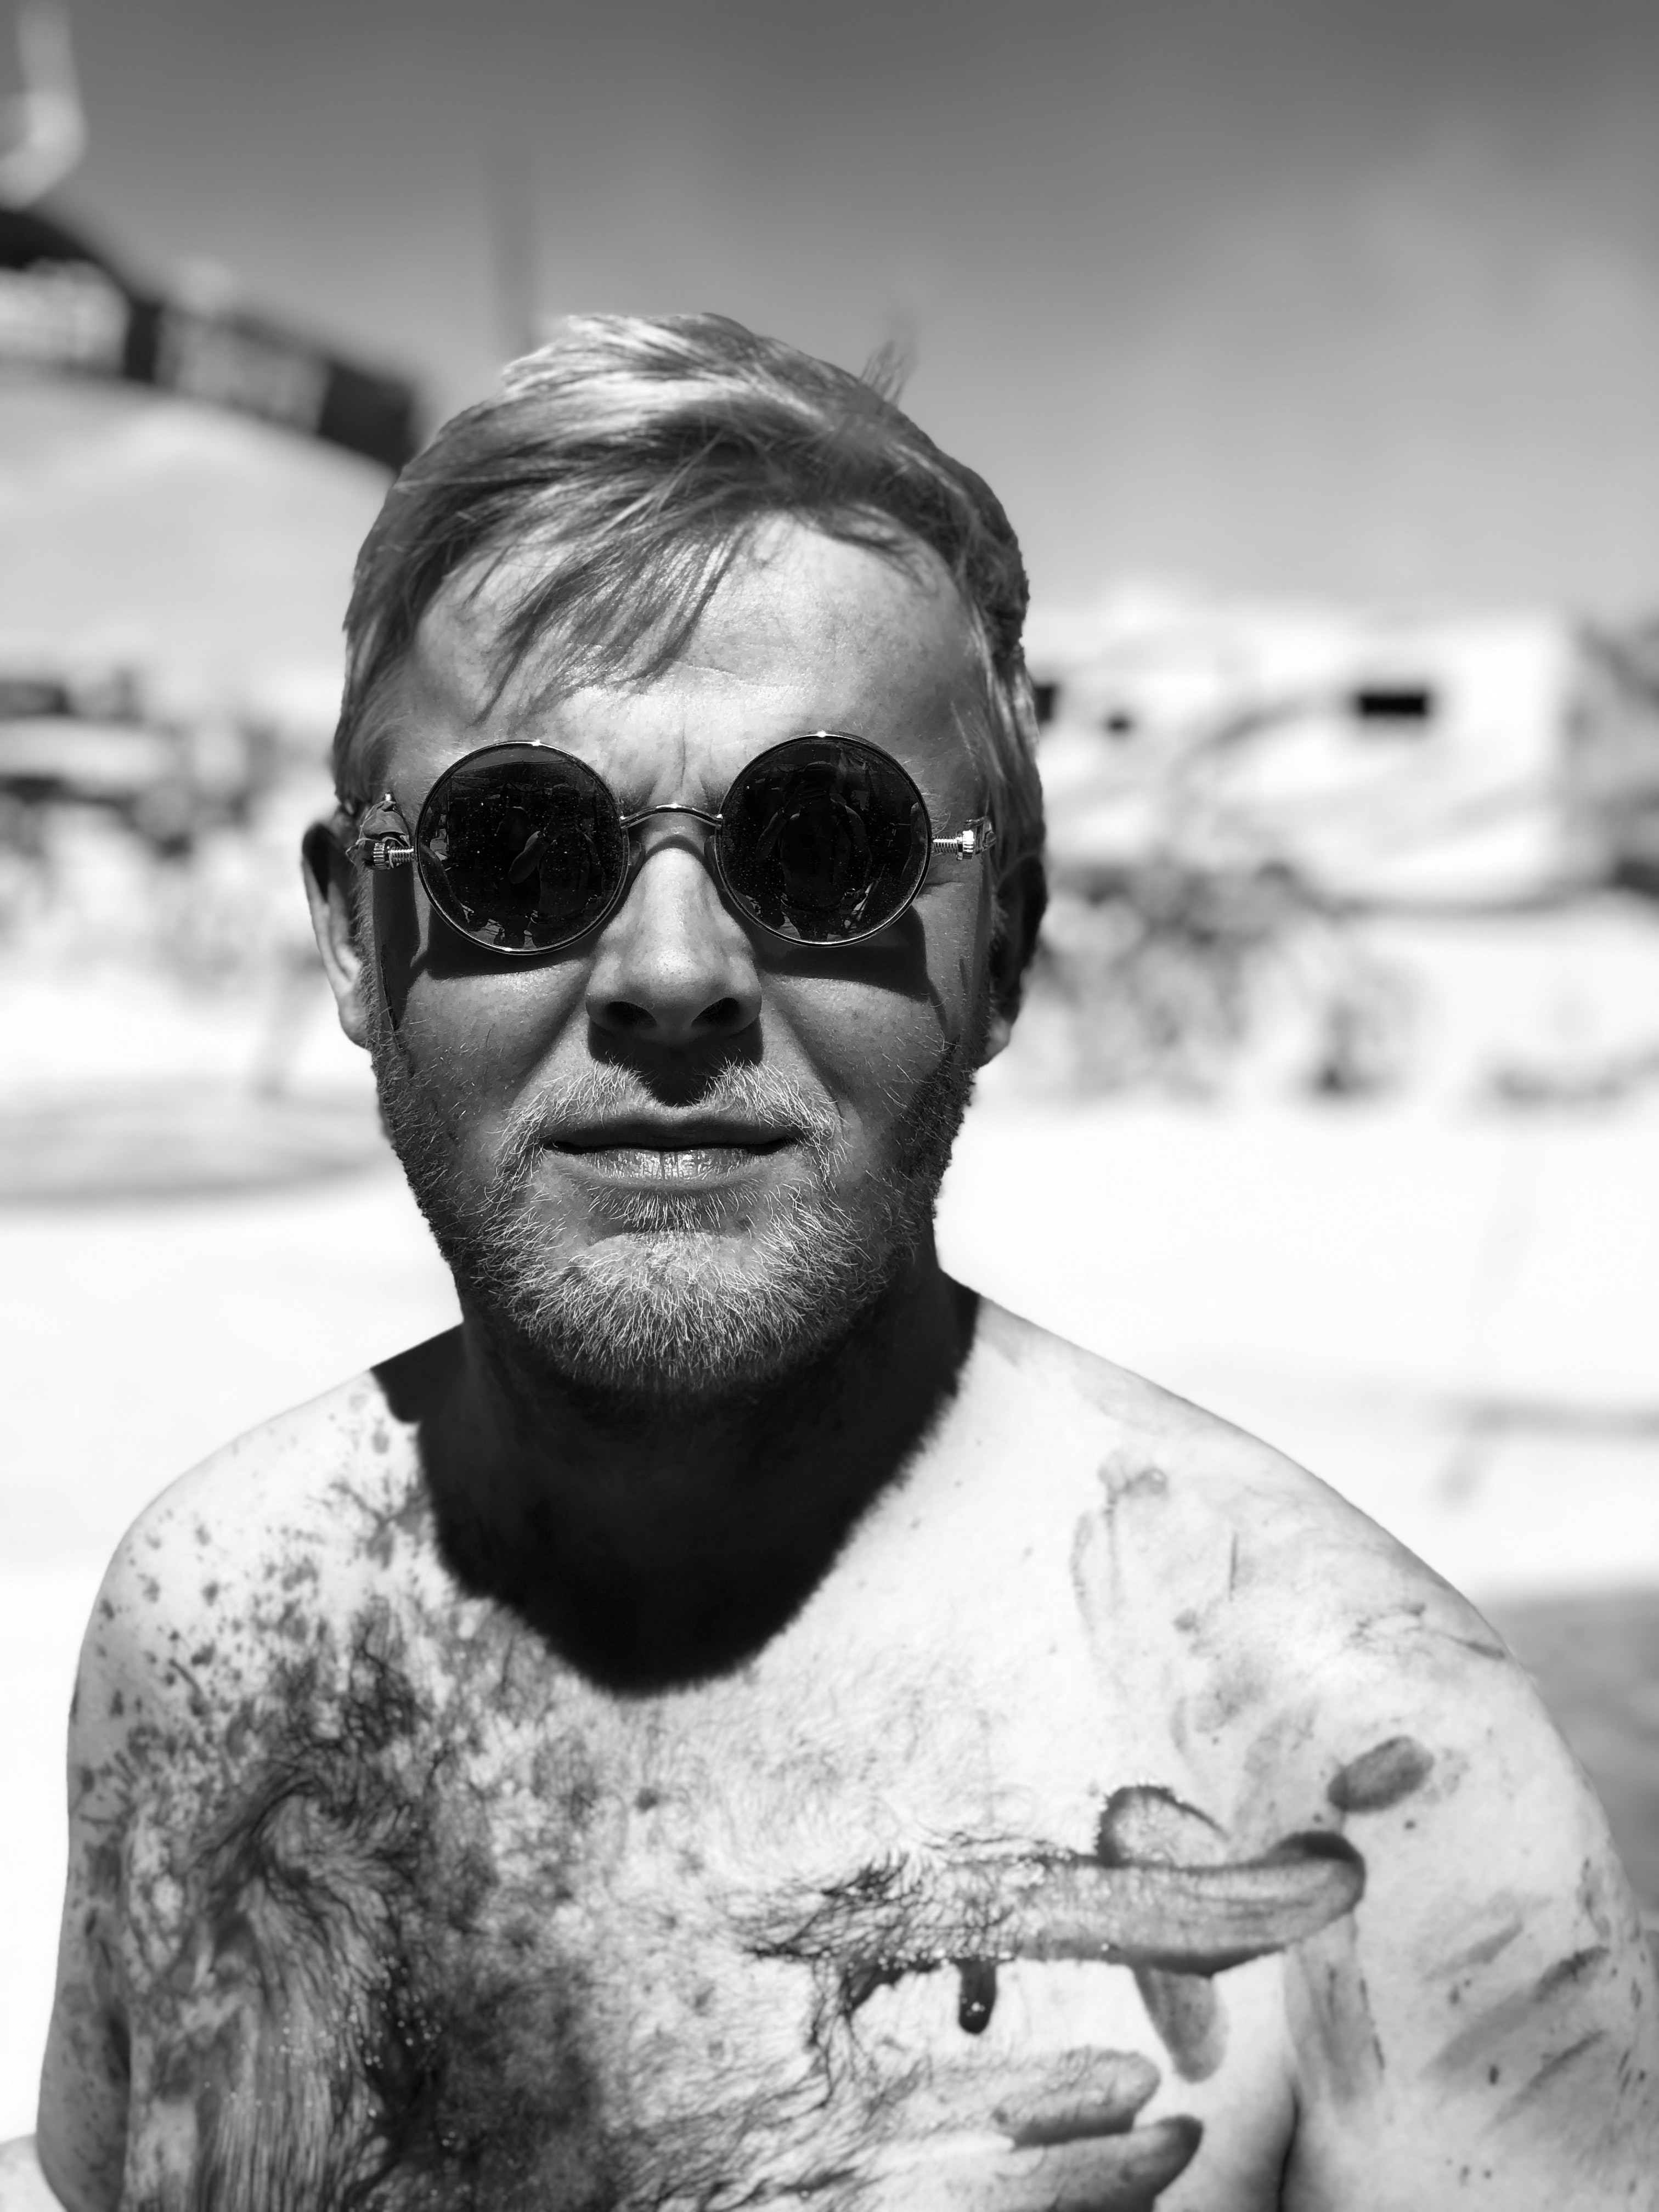face_no_mask: (338, 445, 1031, 1431)
